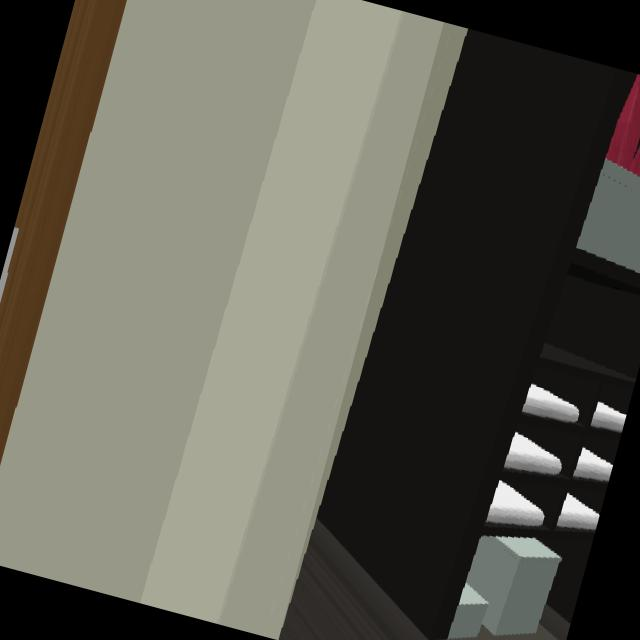wardrobe: (278, 28, 640, 640)
